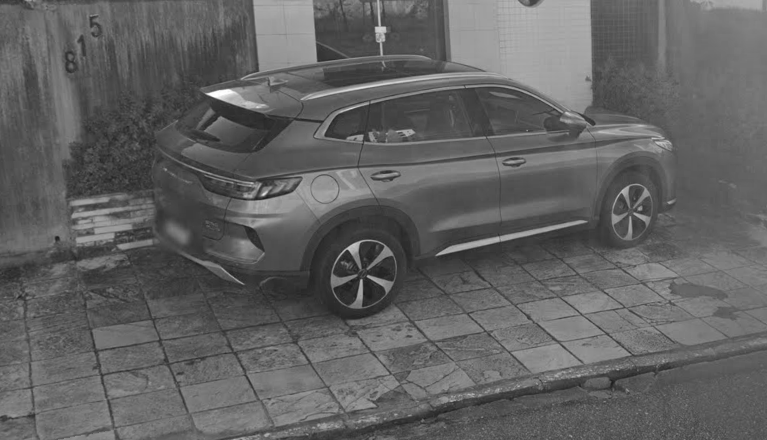car: (149, 49, 677, 319)
